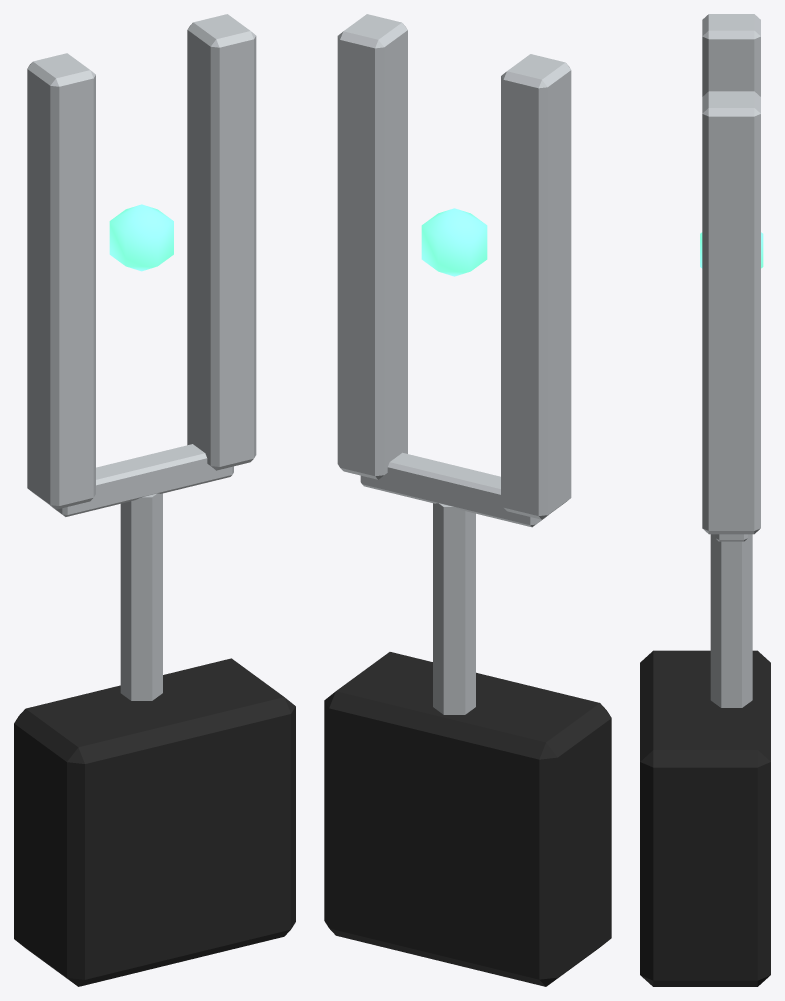
The model's file is npc_tuning_fork.glb.
The picture shows the model from 3 angles, left to right: view 1: azimuth 30°, elevation 25°; view 2: azimuth 150°, elevation 25°; view 3: azimuth 270°, elevation 25°; orthographic projection. The views are drawn at different scales.
Visible parts, largest first — view 1: part.npc_tuning_fork; view 2: part.npc_tuning_fork; view 3: part.npc_tuning_fork.
Boxes of the visible parts, left/top/right/bottom form: part.npc_tuning_fork: left=14, top=14, right=295, bottom=986; part.npc_tuning_fork: left=324, top=14, right=611, bottom=986; part.npc_tuning_fork: left=640, top=14, right=770, bottom=986.
Size of the model in its own units: 0.2 by 0.74 by 0.1.
